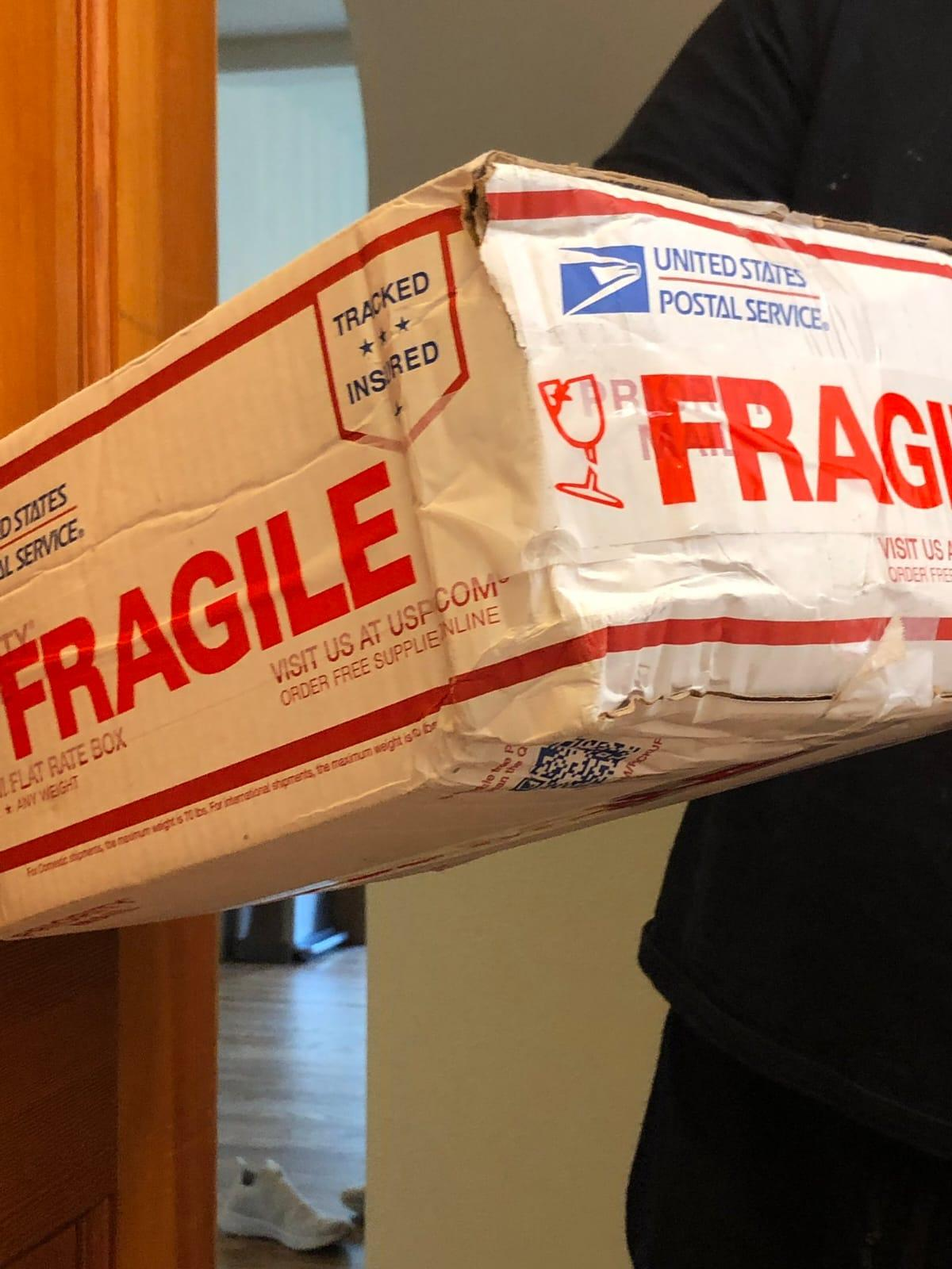undamaged: (0, 147, 950, 951)
